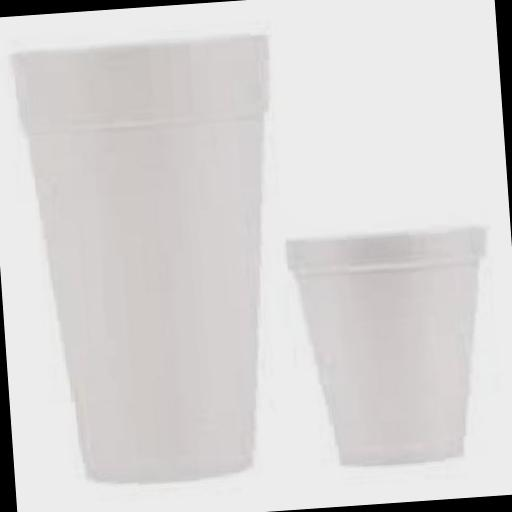paper: (8, 32, 294, 488), (283, 225, 496, 468)
